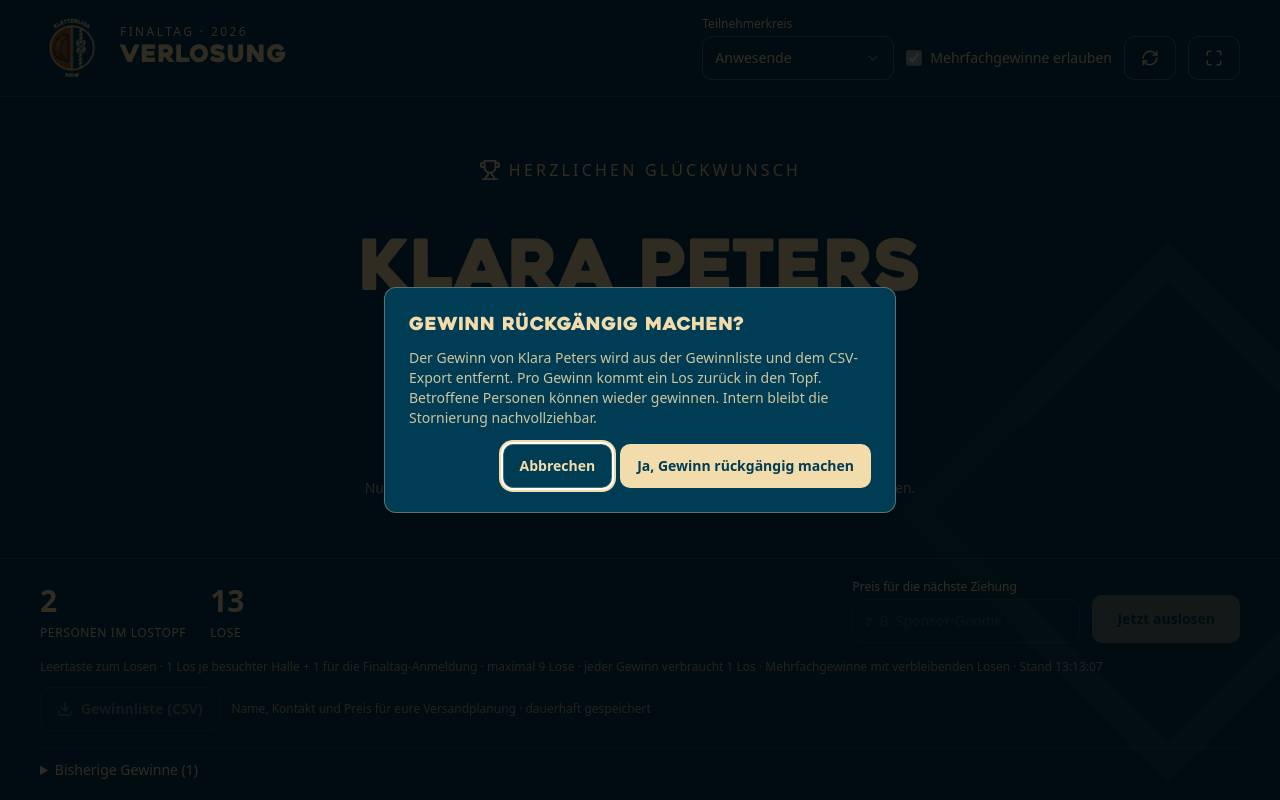
it: TV raffle › requires confirmation for an individual cancellation, then clears the winner and restores the pool
Earlier steps of the test are not shown.
What coordinates should you click on to do the following:
click the button "Ja, Gewinn rückgängig machen"
I would click on:
 (746, 466)
Its box is [620, 444, 871, 488].
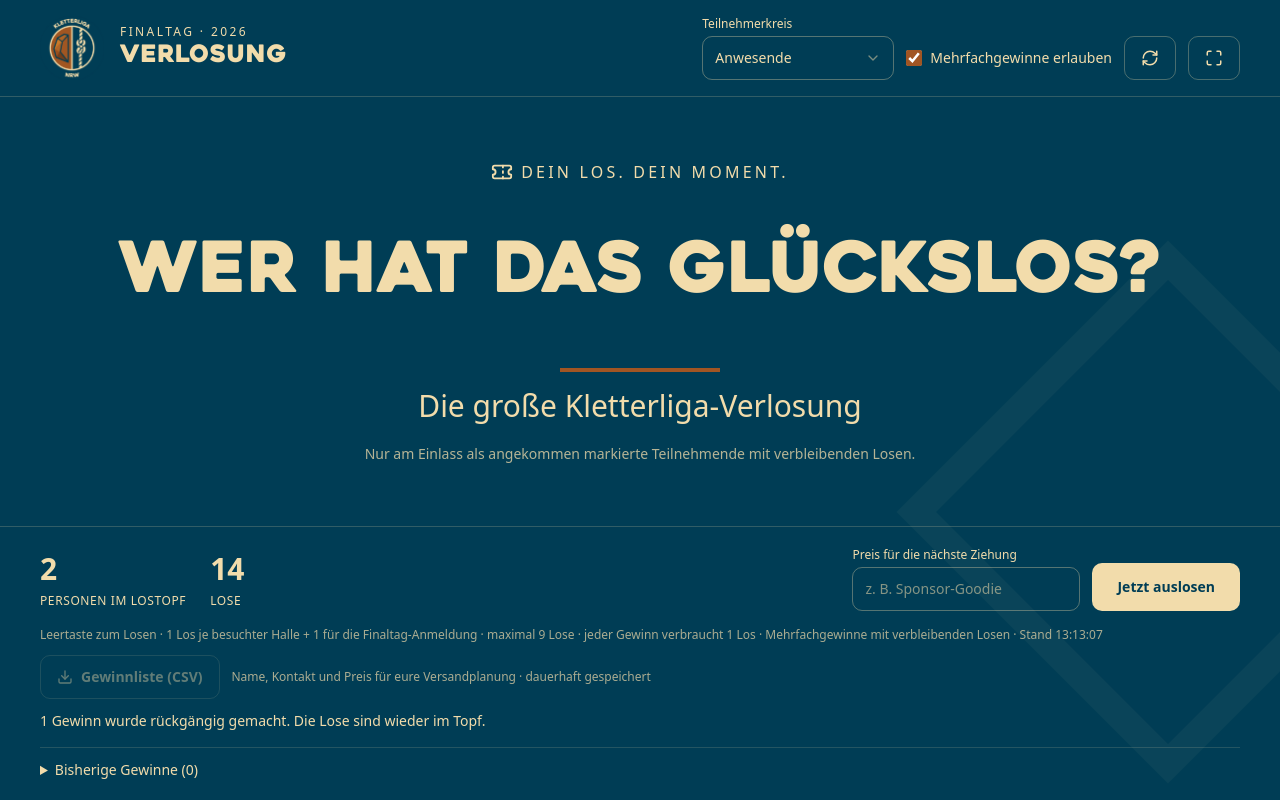
Result: the message shows "1 Gewinn wurde" at [40, 711, 485, 730]
Result: the text "Herzlichen Glückwunsch" is gone
Result: the text "14" is shown at [210, 551, 244, 587]
